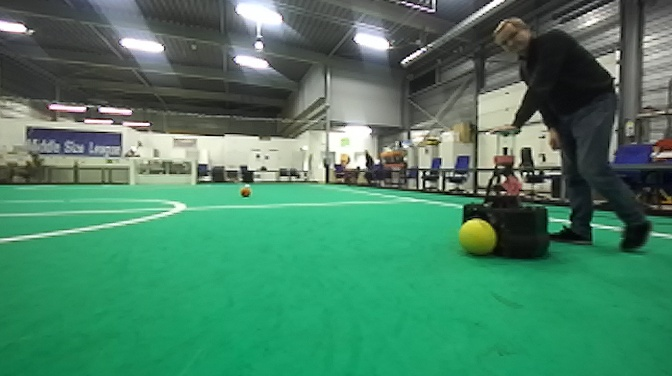ball: (455, 214, 499, 261), (239, 182, 255, 201)
goal: (130, 158, 195, 187)
goalpost: (129, 156, 134, 186), (190, 158, 195, 187)
human: (490, 12, 659, 259)
robot: (458, 126, 553, 265)
